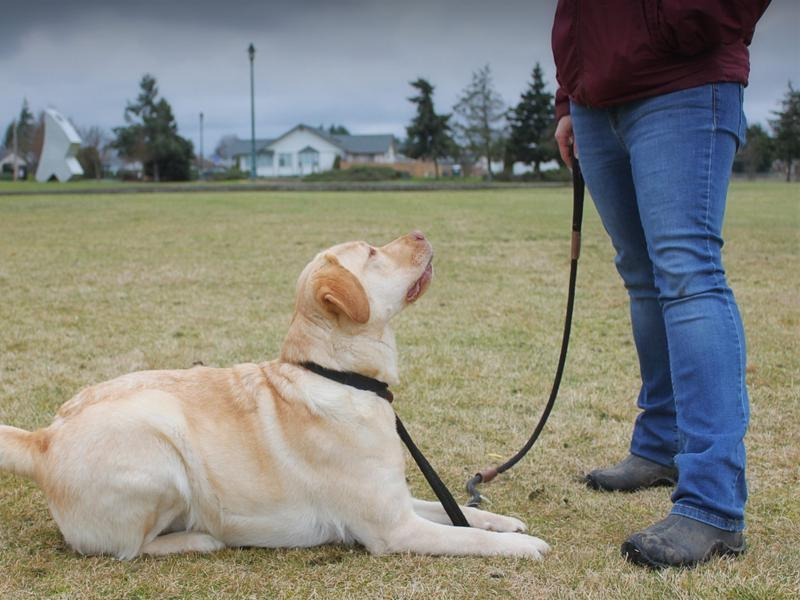dog_down: (1, 225, 552, 566)
